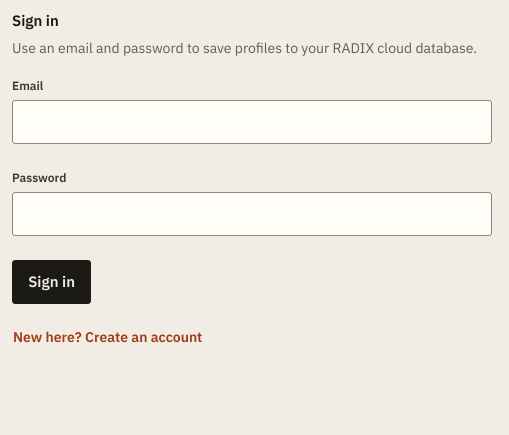
Test: Supabase sign-in › creates an account and explains email confirmation
Click the button "New here? Create an account".
click(108, 338)  # box [12, 316, 203, 360]
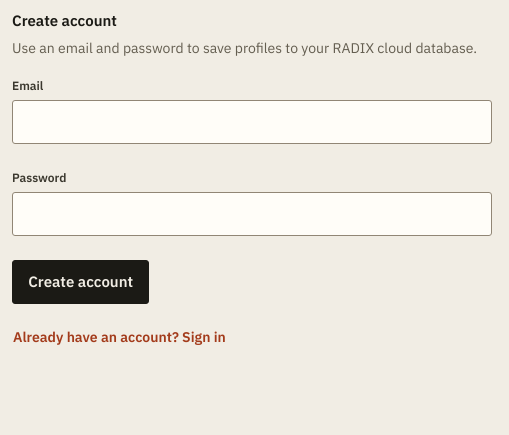
Type "user@example.com" into the field labelled "Email".
click(252, 122); type("user@example.com")  # box [12, 100, 492, 144]
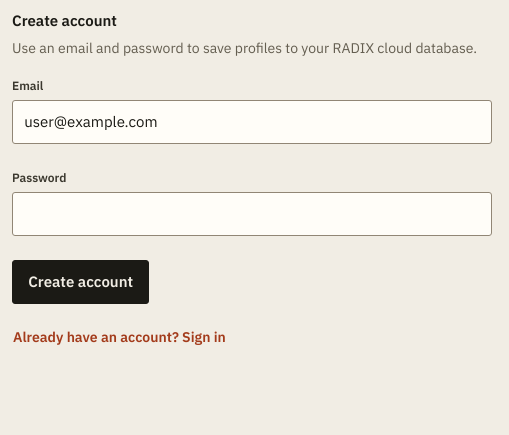
Type "password" into the password field labelled "Password".
click(252, 214); type("password")  # box [12, 192, 492, 236]
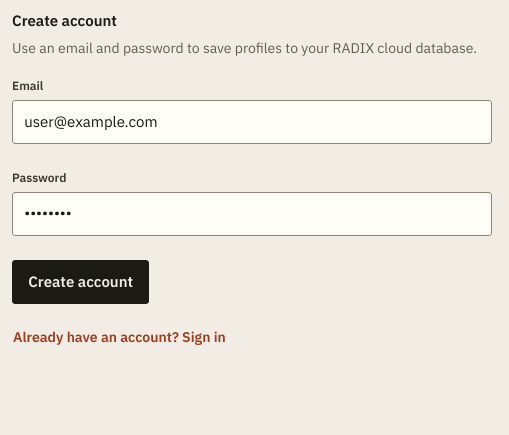
Click the button "Create account".
click(81, 282)  # box [12, 260, 149, 304]
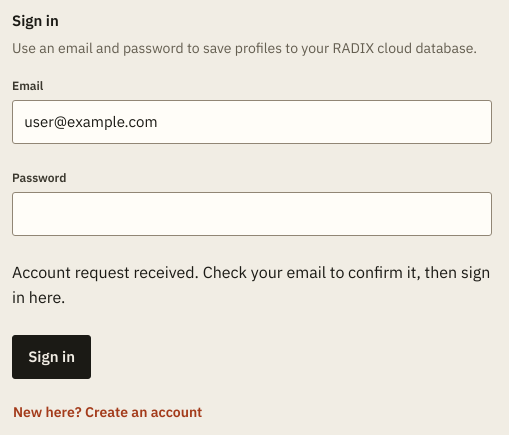
Expected: the message shows "Check your email to confirm it", [12, 262, 490, 307]
